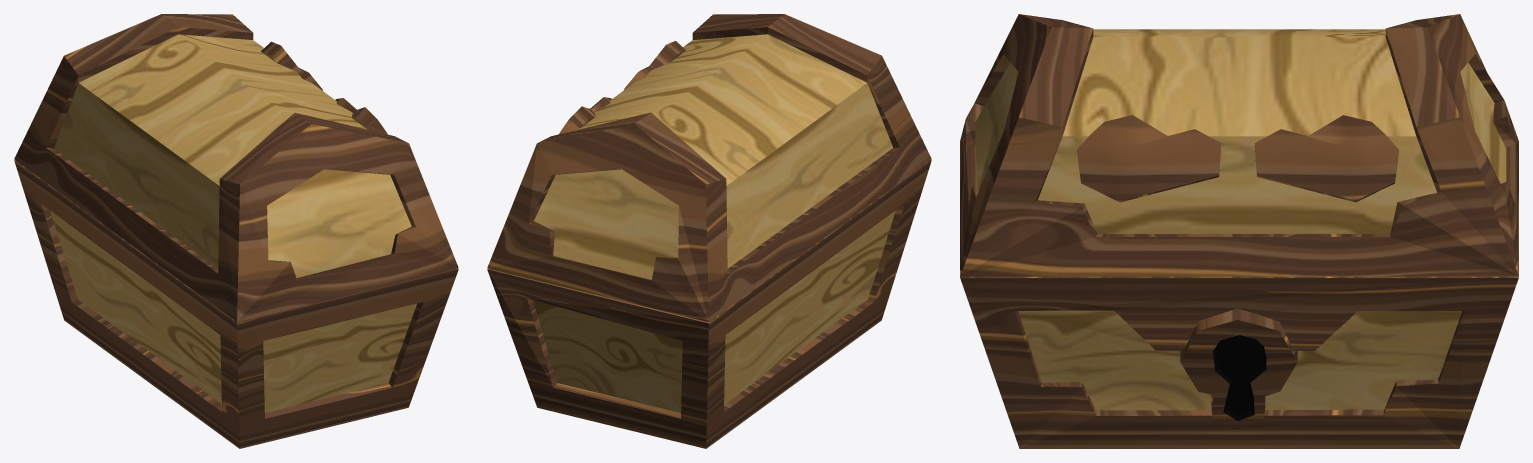
File: wood_chest_zelda.glb
3 renders of one model, left to right at view 1: azimuth 30°, elevation 25°; view 2: azimuth 150°, elevation 25°; view 3: azimuth 270°, elevation 25°, orthographic. The views are drawn at different scales.
Visible parts, largest first — view 1: Object001_Material #29_0, Object001_Material #41_0, Box001_Material #41_0, Box001_Material #29_0; view 2: Object001_Material #29_0, Object001_Material #41_0, Box001_Material #41_0, Box001_Material #29_0; view 3: Object001_Material #41_0, Box001_Material #41_0, Object001_Material #29_0, Box001_Material #29_0, Box001_Material #64_0.
Part boxes in pixels (left/top/right/bottom): Object001_Material #29_0: left=54, top=34, right=411, bottom=278; Object001_Material #41_0: left=14, top=14, right=458, bottom=322; Box001_Material #41_0: left=14, top=160, right=458, bottom=448; Box001_Material #29_0: left=50, top=210, right=417, bottom=412; Object001_Material #29_0: left=534, top=34, right=892, bottom=279; Object001_Material #41_0: left=487, top=14, right=931, bottom=322; Box001_Material #41_0: left=487, top=160, right=931, bottom=448; Box001_Material #29_0: left=533, top=210, right=895, bottom=412; Object001_Material #41_0: left=960, top=14, right=1518, bottom=276; Box001_Material #41_0: left=960, top=270, right=1518, bottom=448; Object001_Material #29_0: left=975, top=29, right=1506, bottom=233; Box001_Material #29_0: left=1018, top=310, right=1462, bottom=410; Box001_Material #64_0: left=1213, top=335, right=1266, bottom=420.
Size of the model in its own units: 28.55 by 35.26 by 48.26.
4 materials, 3 textured.
